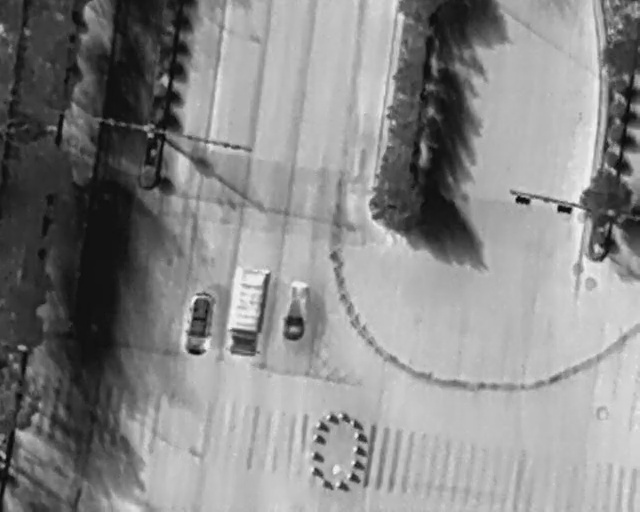Car: (181, 288, 217, 357), (280, 278, 313, 341)
OtherVehicle: (222, 262, 273, 358)
